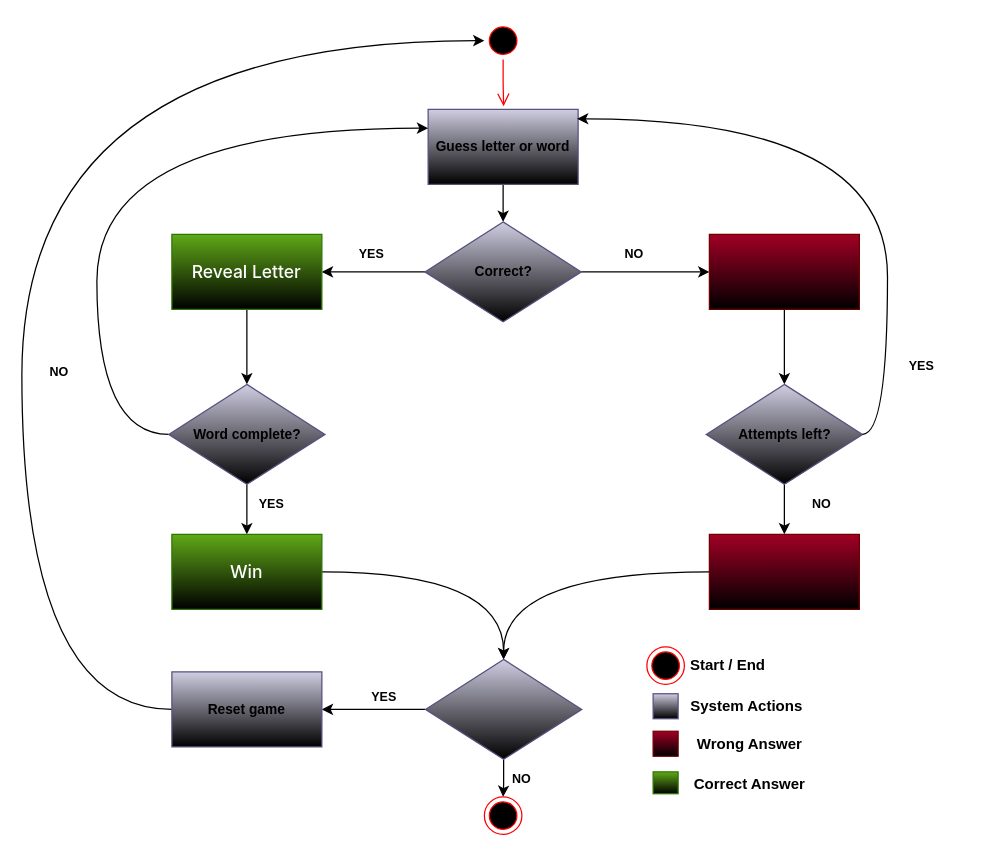
Some shapes in this 981 by 856 pixel diagram are drawn without their labels. Here are the shapes that lost their labels. From the top down, the centre of each, then its label:
the point at 783,271: Draw hangman part
the point at 783,571: Game over
the point at 503,708: Play again?
